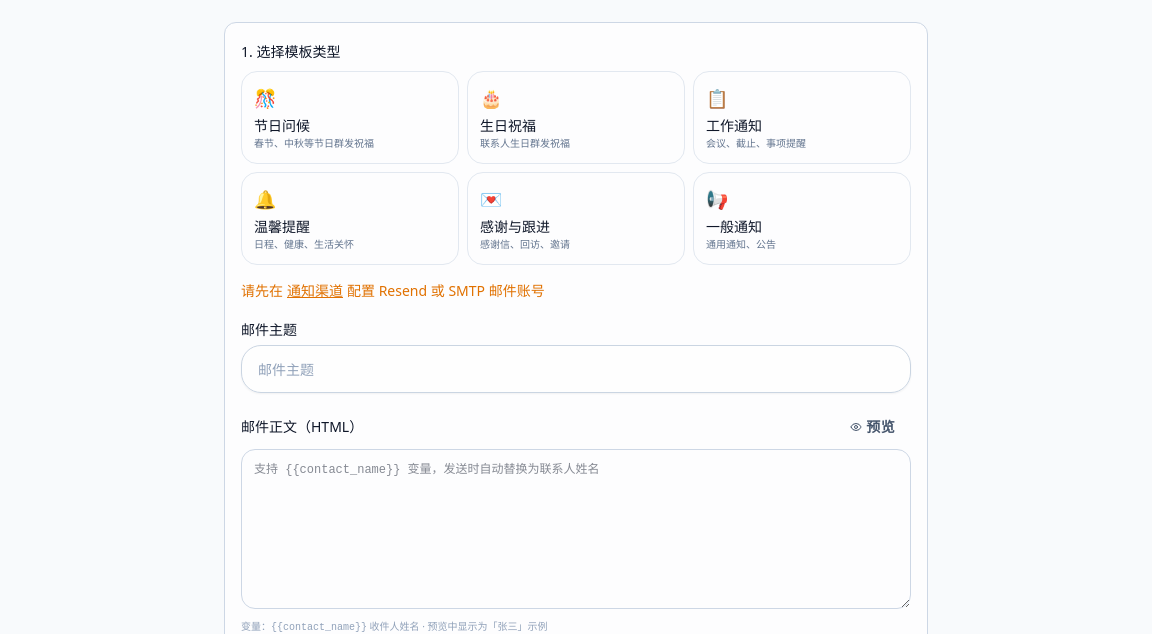
Test case: Broadcast 发送确认闸门（v2.31 R5/Q3） › cancel keeps everything unsent
Type "测试主题" into the field with placeholder "邮件主题".
click(576, 369); type("测试主题")  # box [241, 345, 911, 393]
(page scrolled)
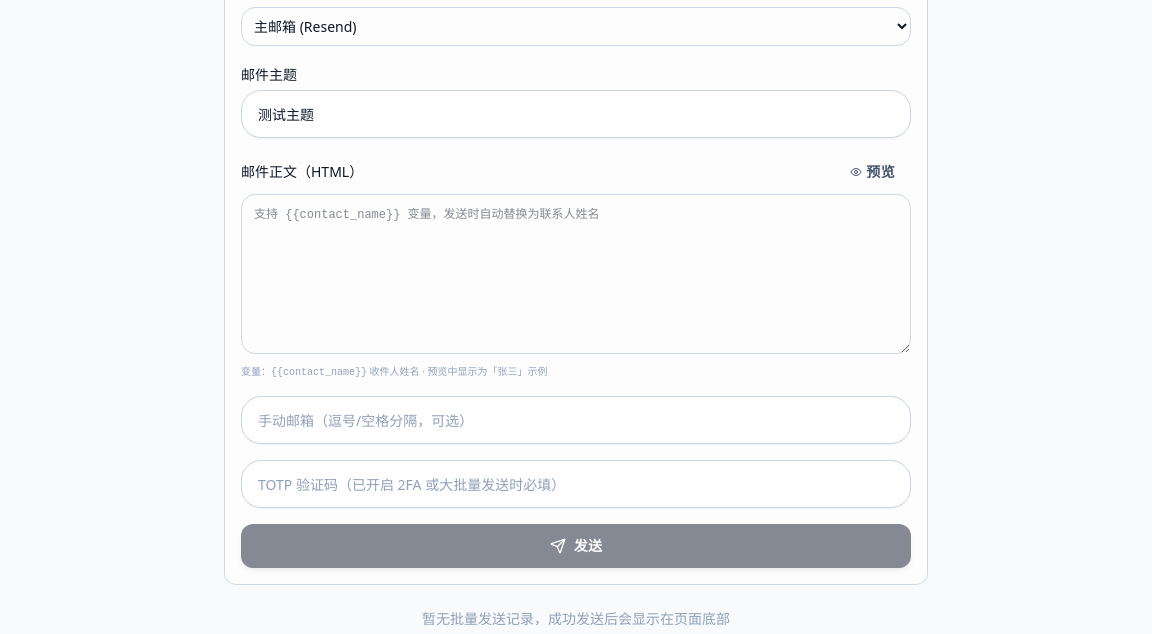
Type "<p>正文</p>" into the text box with placeholder "支持 {{contact_name}} 变量，发送时自动替换为联系人姓名".
click(576, 274); type("<p>正文</p>")  # box [241, 194, 911, 354]
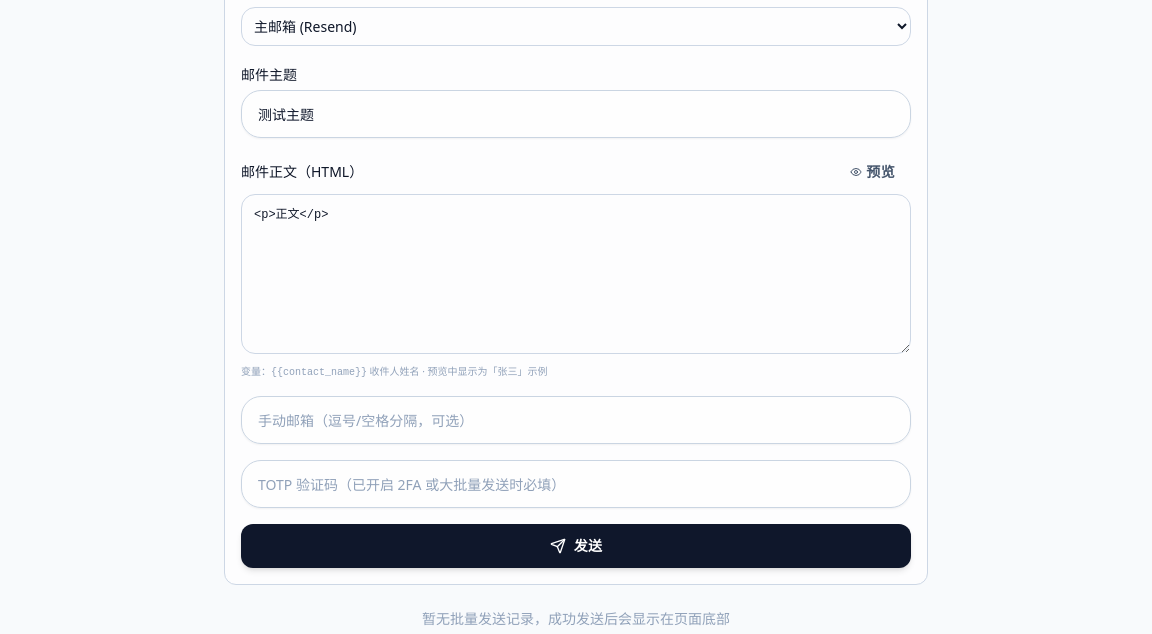
Type "a@b.com" into the field with placeholder "手动邮箱（逗号/空格分隔，可选）".
click(576, 420); type("a@b.com")  # box [241, 396, 911, 444]
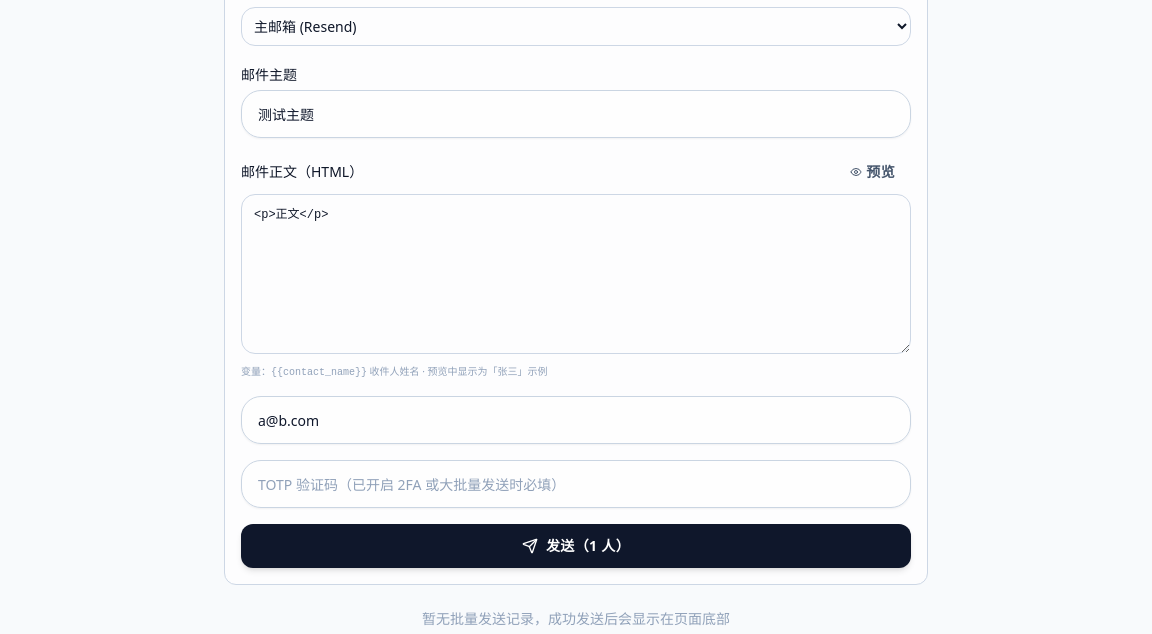
Click the button "发送（1 人）".
click(576, 546)  # box [241, 524, 911, 568]
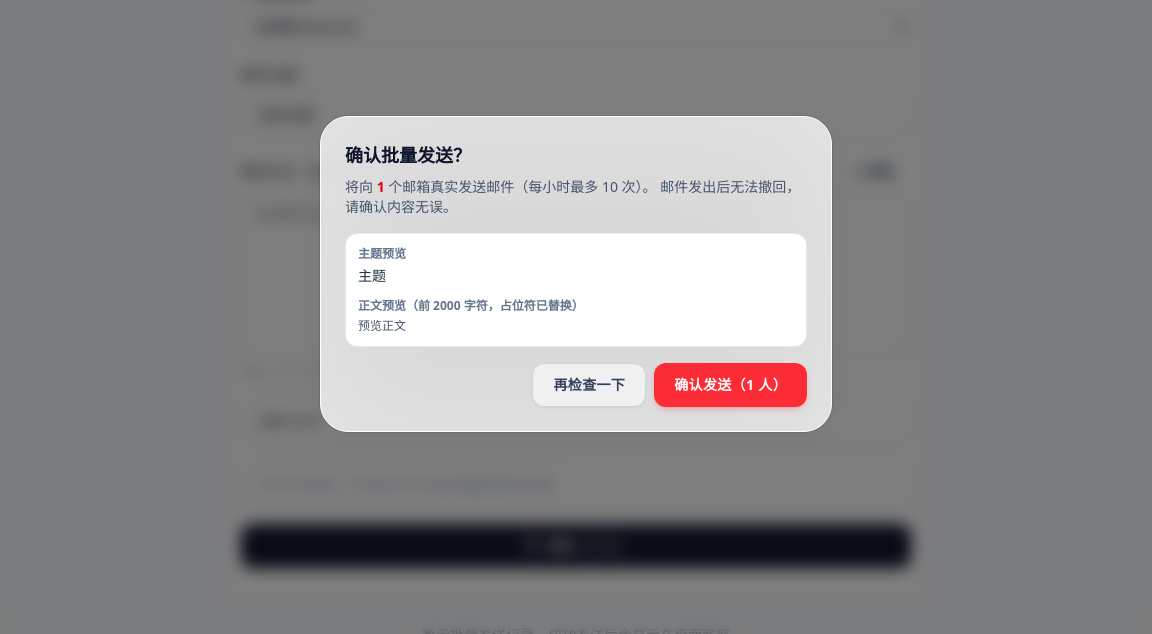
Click the button "再检查一下".
click(589, 385)  # box [532, 363, 646, 407]
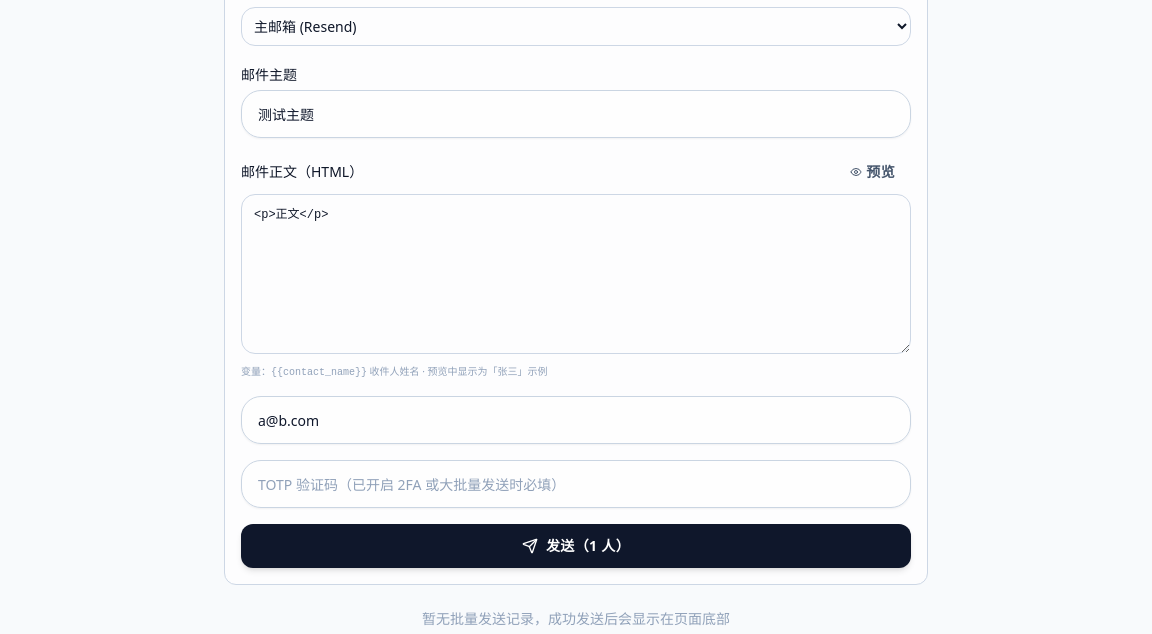
Now the heading "确认批量发送" is gone
